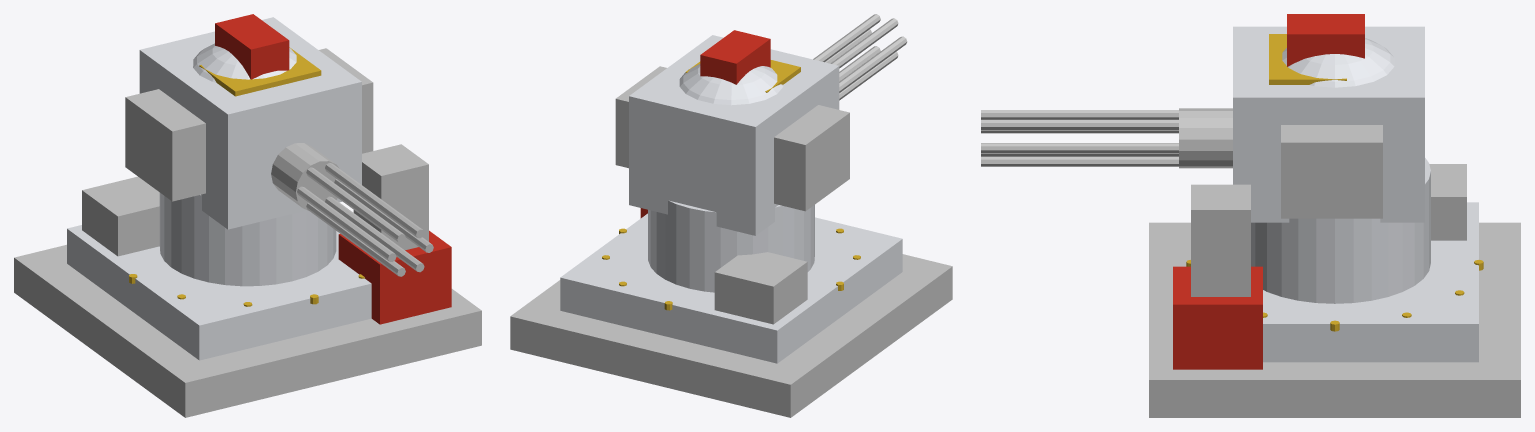
The model's file is ciws.obj.
The picture shows the model from 3 angles, left to right: view 1: azimuth 30°, elevation 25°; view 2: azimuth 150°, elevation 25°; view 3: azimuth 270°, elevation 25°; orthographic projection. The views are drawn at different scales.
Visible parts, largest first — view 1: ciws; view 2: ciws; view 3: ciws.
Part boxes in pixels (x1=…): ciws: x1=14, y1=14, x2=481, y2=417; ciws: x1=510, y1=14, x2=952, y2=417; ciws: x1=981, y1=14, x2=1520, y2=417.
Bounding box in the file's own units: 1.24 × 1.16 × 1.8.
